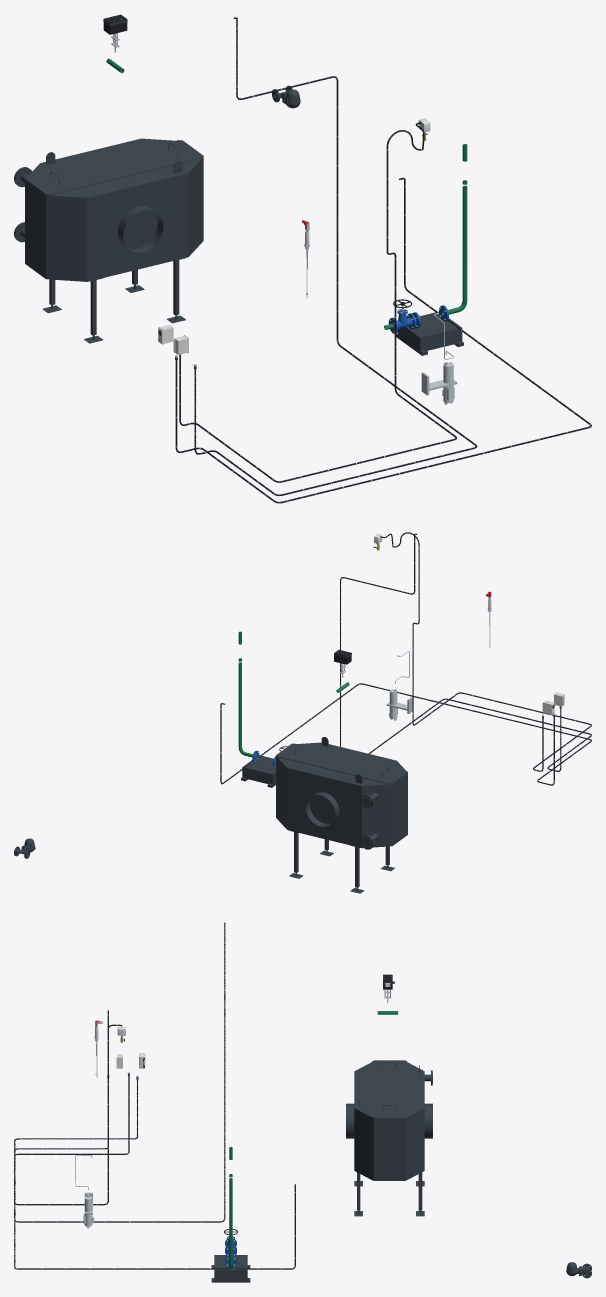
3 views of the same model, one above another, from view 1: azimuth 30°, elevation 25°; view 2: azimuth 150°, elevation 25°; view 3: azimuth 270°, elevation 25° (orthographic). The views are drawn at different scales.
Visible parts, largest first — view 1: EQS2-2000 CAD 0, EQS2-2000 CAD 3, EQS2-2000 CAD 1, gpz_drive_cable / black, wiring_pump_2 / black, wiring_pressure_transmitter / black, pump_branch_1 / dark, pump_branch_1 / green; view 2: EQS2-2000 CAD 0, EQS2-2000 CAD 3, EQS2-2000 CAD 2, wiring_pump_2 / black, gpz_drive_cable / black, wiring_pressure_transmitter / black, pump_branch_1 / dark, pump_branch_1 / green; view 3: EQS2-2000 CAD 3, gpz_drive_cable / black, wiring_pump_2 / black, EQS2-2000 CAD 0, wiring_pressure_transmitter / black, pump_branch_1 / dark.
Boxes of the visible parts, left/top/right/bottom form: EQS2-2000 CAD 0: left=43, top=158, right=188, bottom=343; EQS2-2000 CAD 3: left=25, top=138, right=203, bottom=278; EQS2-2000 CAD 1: left=46, top=195, right=87, bottom=281; gpz_drive_cable / black: left=194, top=17, right=477, bottom=496; wiring_pump_2 / black: left=175, top=177, right=591, bottom=503; wiring_pressure_transmitter / black: left=179, top=122, right=456, bottom=482; pump_branch_1 / dark: left=396, top=311, right=463, bottom=355; pump_branch_1 / green: left=384, top=144, right=467, bottom=329; EQS2-2000 CAD 0: left=287, top=768, right=394, bottom=893; EQS2-2000 CAD 3: left=276, top=737, right=407, bottom=845; EQS2-2000 CAD 2: left=360, top=784, right=392, bottom=849; wiring_pump_2 / black: left=220, top=683, right=591, bottom=785; gpz_drive_cable / black: left=340, top=533, right=591, bottom=771; wiring_pressure_transmitter / black: left=380, top=532, right=591, bottom=771; pump_branch_1 / dark: left=241, top=755, right=275, bottom=787; pump_branch_1 / green: left=238, top=631, right=257, bottom=758; EQS2-2000 CAD 3: left=354, top=1060, right=424, bottom=1180; gpz_drive_cable / black: left=14, top=922, right=225, bottom=1222; wiring_pump_2 / black: left=14, top=1076, right=295, bottom=1269; EQS2-2000 CAD 0: left=346, top=1103, right=432, bottom=1216; wiring_pressure_transmitter / black: left=14, top=1010, right=138, bottom=1205; pump_branch_1 / dark: left=211, top=1255, right=250, bottom=1282.
Bounding box in the file's own units: 4.31 × 3.6 × 6.74.
